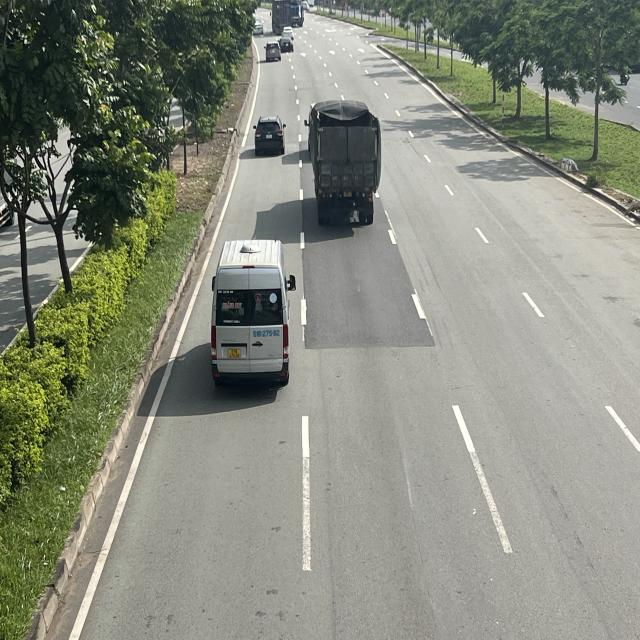car: (254, 117, 288, 155)
truck: (306, 100, 382, 225)
van: (207, 238, 294, 386)
